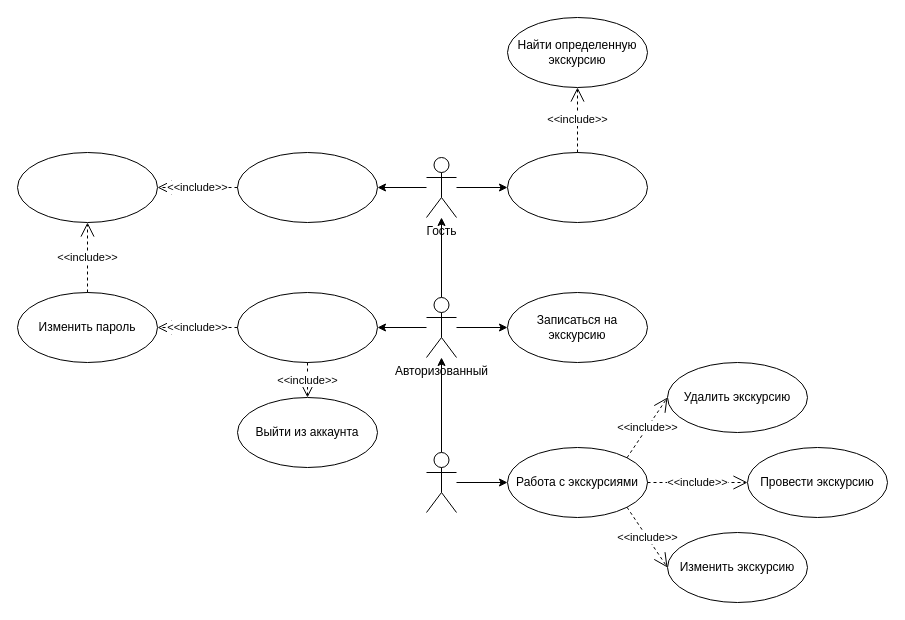
Some shapes in this 905 by 620 pixel diagram are drawn without their labels. Each missing label, with the box of its shape:
Авторизация: (236, 152, 378, 222)
Подтверждение номера телефона: (16, 152, 158, 222)
Просмотреть список экскурсий: (506, 152, 648, 222)
Редактировать профиль: (236, 292, 378, 362)
Экскурсовод: (426, 452, 456, 512)
